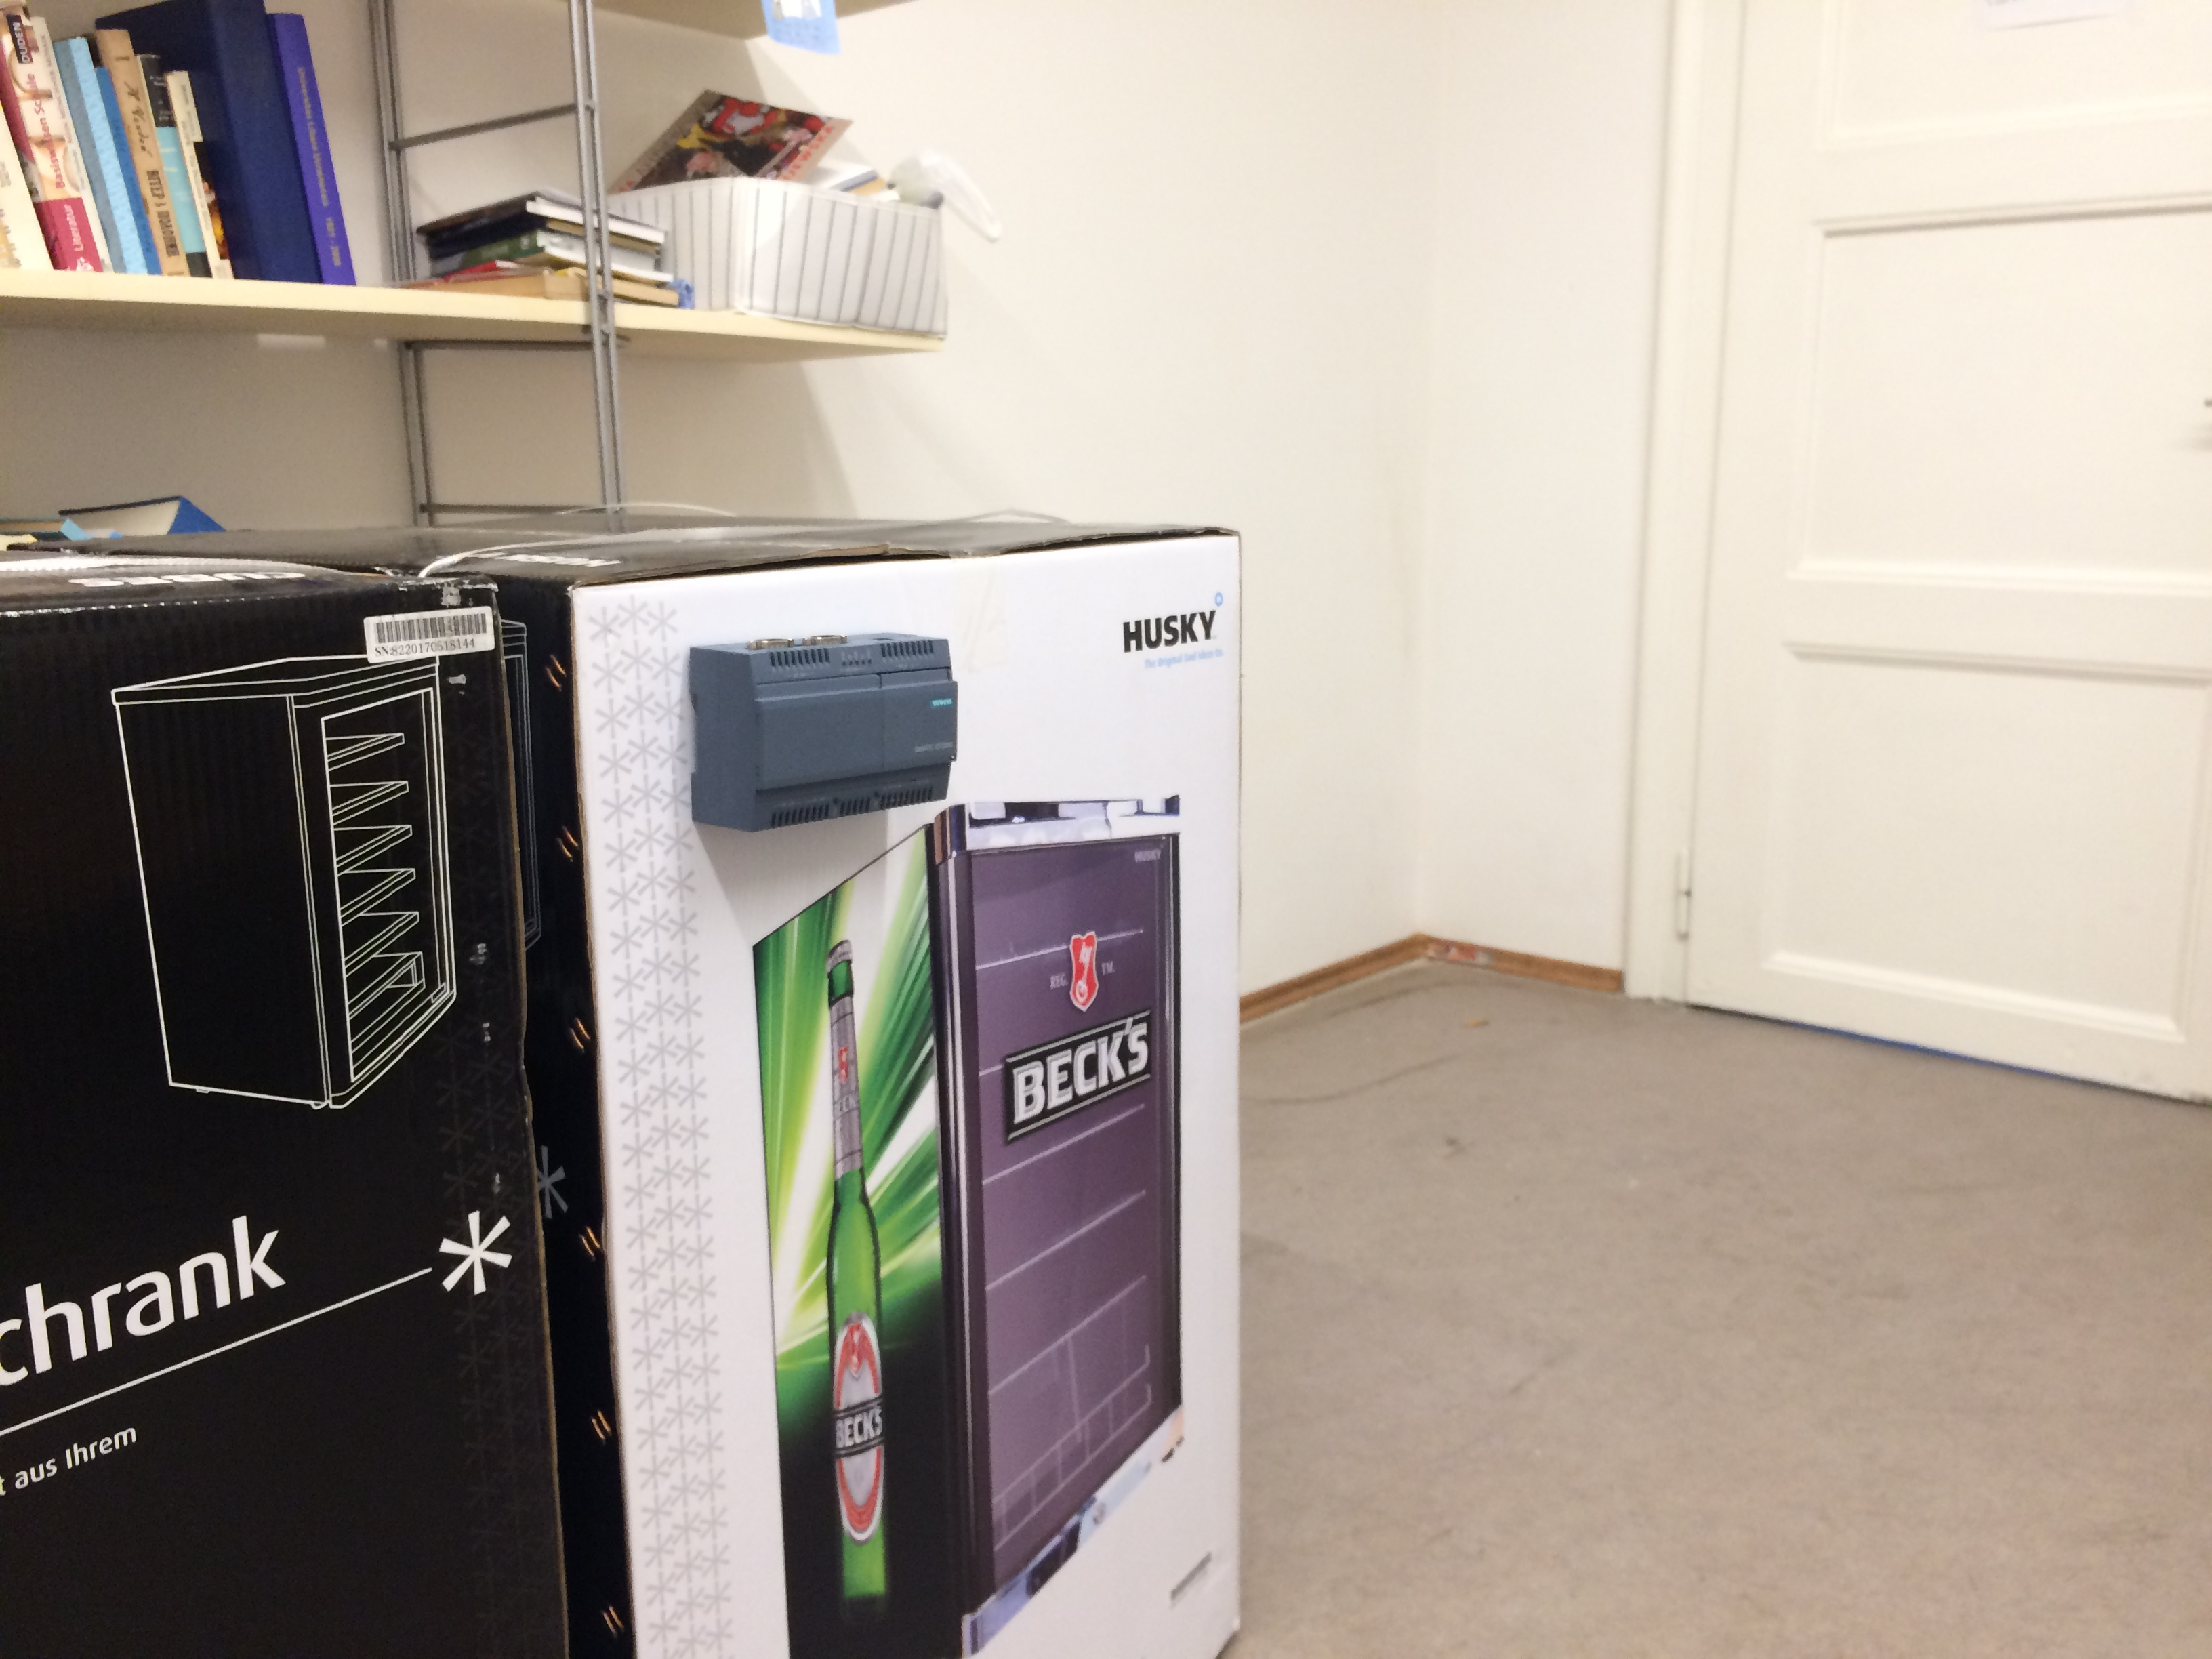iot2000: (686, 629, 963, 836)
